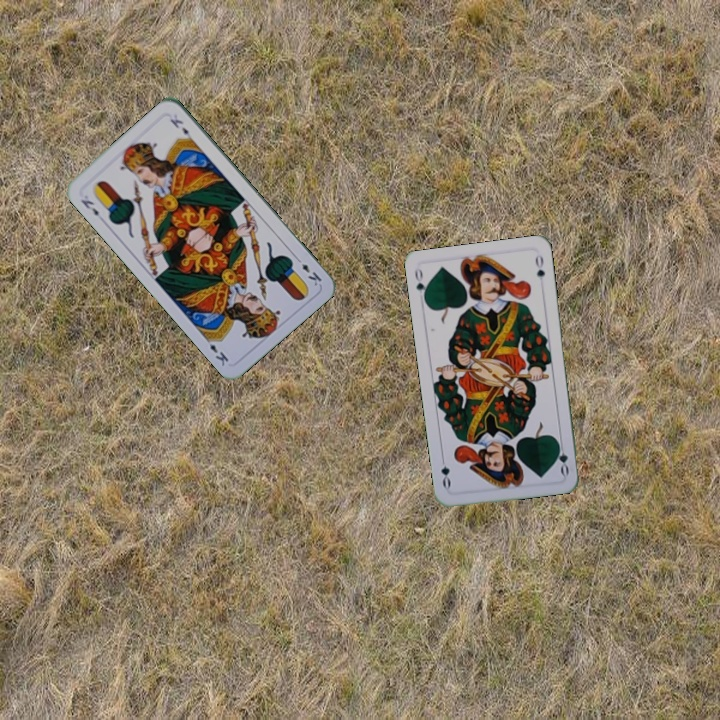EK: (291, 253, 325, 289), (77, 195, 106, 225)
GO: (410, 265, 430, 305), (553, 437, 571, 477)
